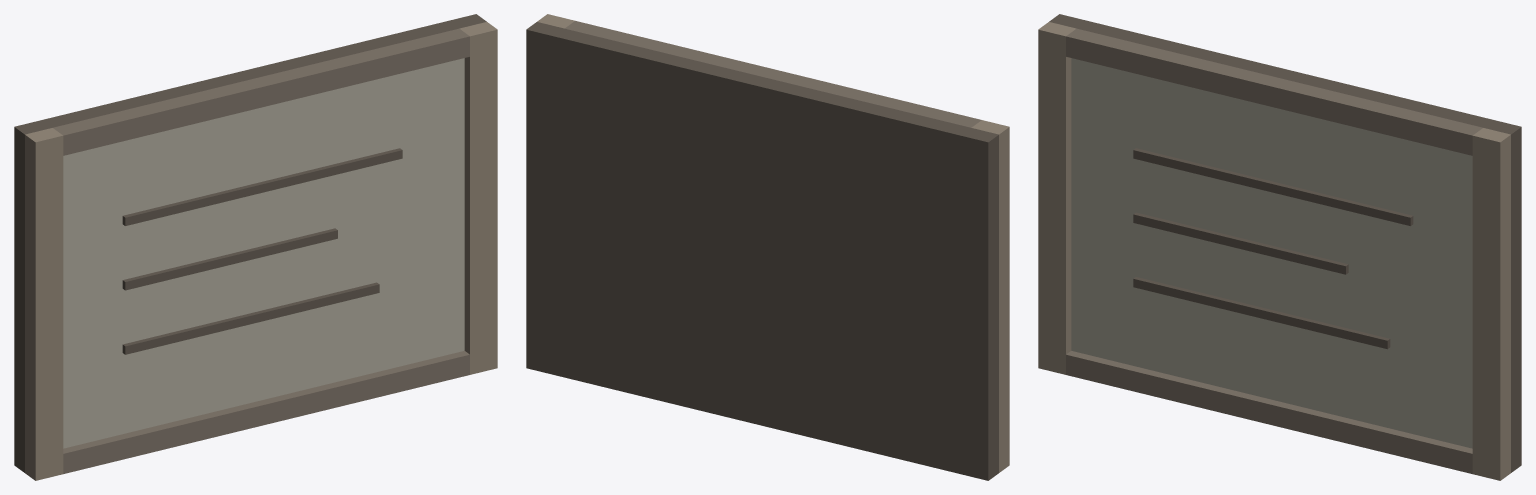
Rendered from storage_board.glb.
3 renders of one model, left to right at view 1: azimuth 30°, elevation 25°; view 2: azimuth 150°, elevation 25°; view 3: azimuth 330°, elevation 25°, orthographic.
Parts seen in each view (by area): view 1: storage_board; view 2: storage_board; view 3: storage_board.
Part boxes in pixels (<box>): storage_board: <box>14,14,497,480</box>; storage_board: <box>526,14,1009,480</box>; storage_board: <box>1038,14,1521,480</box>.
Bounding box in the file's own units: 0.5 × 0.35 × 0.04.
